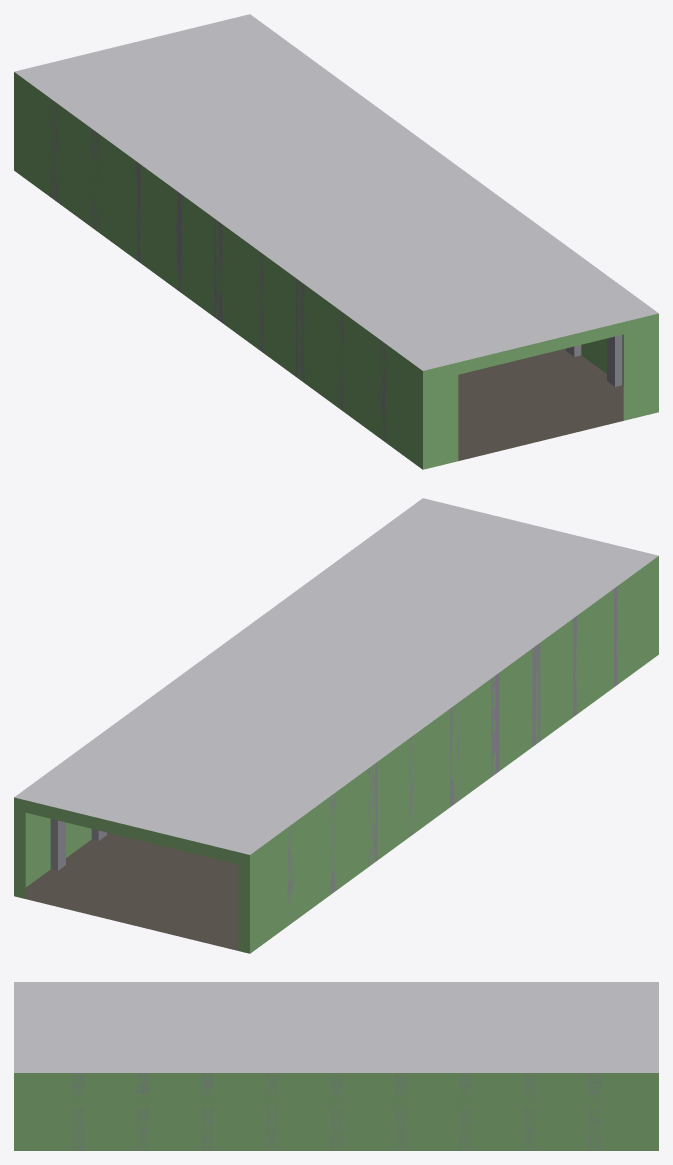
File: level_fps_C.obj
3 views of the same model, one above another, from view 1: azimuth 30°, elevation 25°; view 2: azimuth 150°, elevation 25°; view 3: azimuth 270°, elevation 25° (orthographic). The views are drawn at different scales.
Visible parts, largest first — view 1: C_gallery; view 2: C_gallery; view 3: C_gallery.
Boxes of the visible parts, x1,y1,x2,y2 form: C_gallery: [14, 14, 658, 469]; C_gallery: [14, 498, 658, 953]; C_gallery: [14, 982, 658, 1150].
Bounding box in the file's own units: 10 × 4 × 30.
